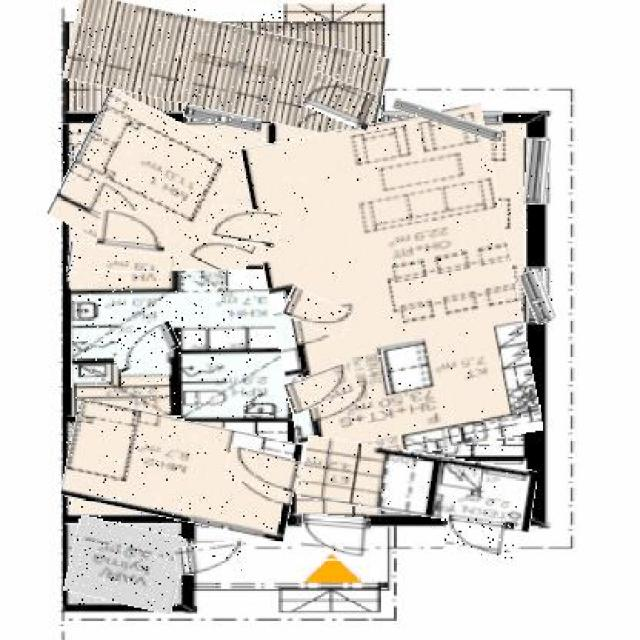door: (305, 77, 377, 126), (97, 209, 168, 254), (298, 517, 371, 560), (284, 368, 358, 409), (444, 517, 514, 560), (226, 449, 302, 488), (209, 206, 280, 246), (285, 292, 352, 334), (114, 326, 178, 366), (175, 542, 252, 572)
window: (391, 106, 503, 134), (183, 108, 262, 129), (523, 269, 552, 325), (525, 140, 549, 205)
zone: (257, 113, 528, 464), (57, 108, 280, 286), (66, 9, 389, 126), (72, 271, 291, 415), (64, 411, 298, 531), (300, 444, 535, 524), (68, 522, 183, 609), (68, 246, 174, 292)
